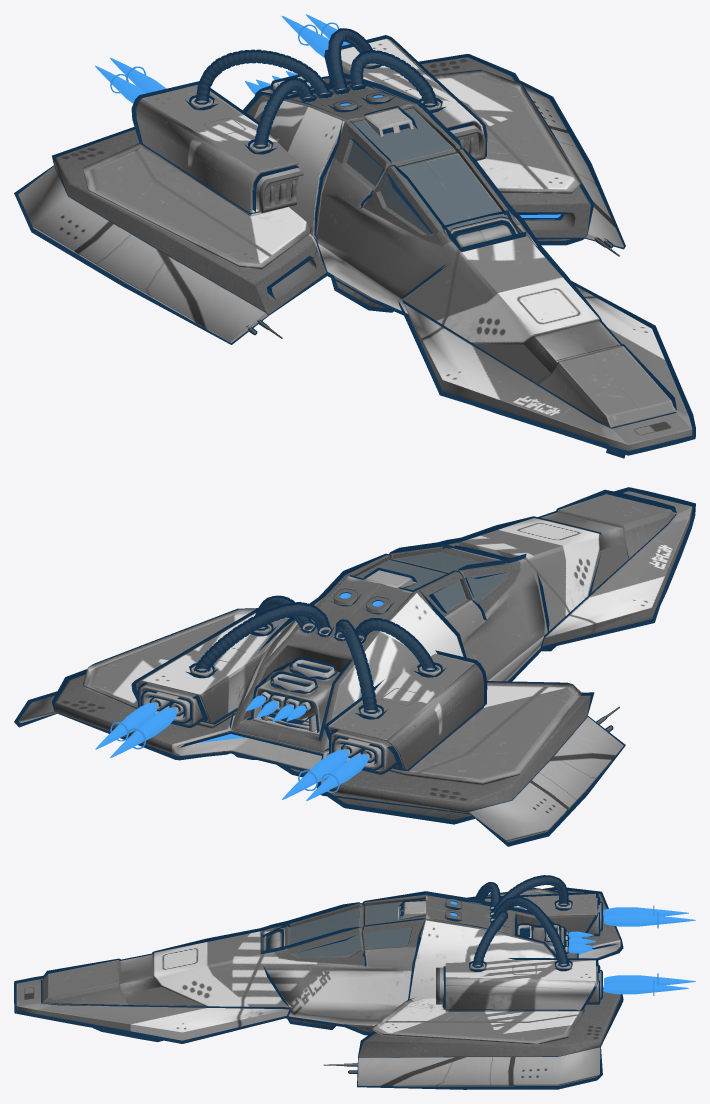
Rendered from agship.glb.
The picture shows the model from 3 angles, top to bottom: view 1: azimuth 30°, elevation 25°; view 2: azimuth 150°, elevation 25°; view 3: azimuth 270°, elevation 25°; orthographic projection. The views are drawn at different scales.
Visible parts, largest first — view 1: Ship2, Ship2Jets; view 2: Ship2, Ship2Jets; view 3: Ship2, Ship2Jets.
Part boxes in pixels (left/top/right/bottom): Ship2: left=14, top=28, right=695, bottom=458; Ship2Jets: left=95, top=14, right=349, bottom=103; Ship2: left=14, top=487, right=695, bottom=846; Ship2Jets: left=95, top=695, right=368, bottom=801; Ship2: left=14, top=875, right=623, bottom=1089; Ship2Jets: left=568, top=905, right=695, bottom=995.
Bounding box in the file's own units: 3.77 × 1.26 × 5.8.
Materials: 6 (2 with a texture image).
